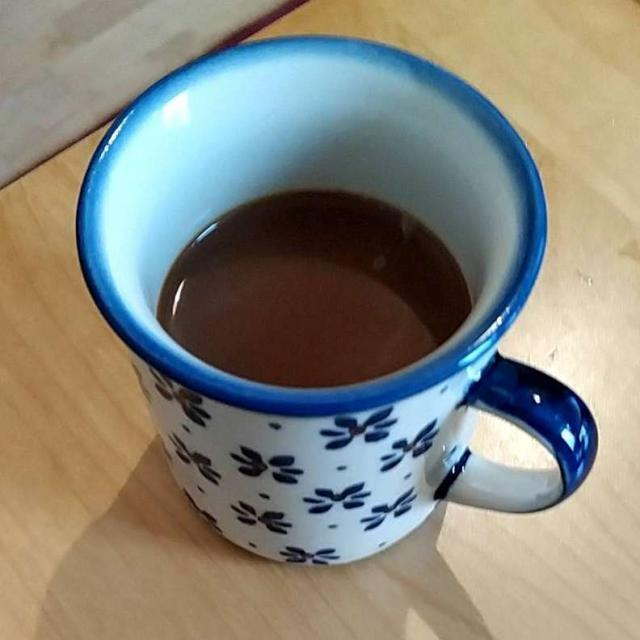coffee: (160, 194, 471, 383)
